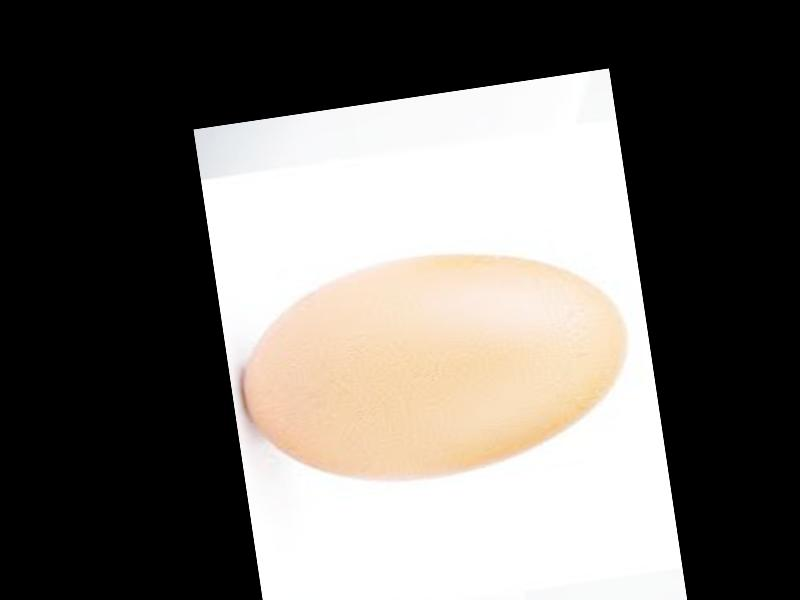Eggs: (228, 229, 641, 503)
